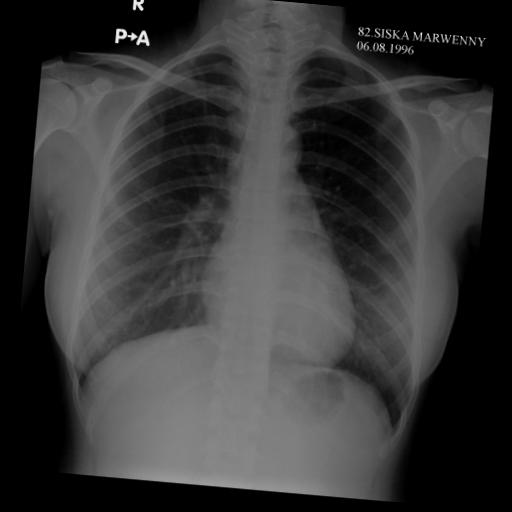normal: (58, 12, 456, 448)
